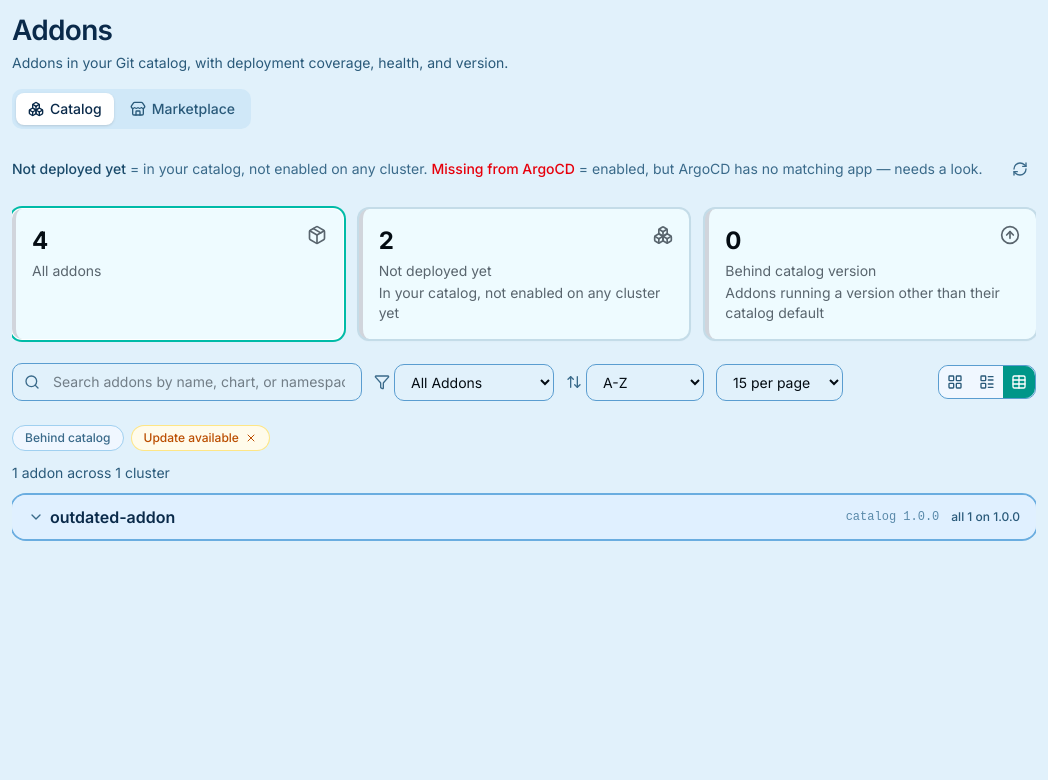
AddonCatalog — ?filter=outdated deep-link (WQ-2) › clearing the chip shows every row again and drops ?filter from the URL
Expected: the text "outdated-addon" is shown, [50,505,175,529]
Expected: the text "up-to-date-addon" is not shown
Step 1. Click the button named "clear the update available filter" → click(251, 438), box [245,432,257,444]
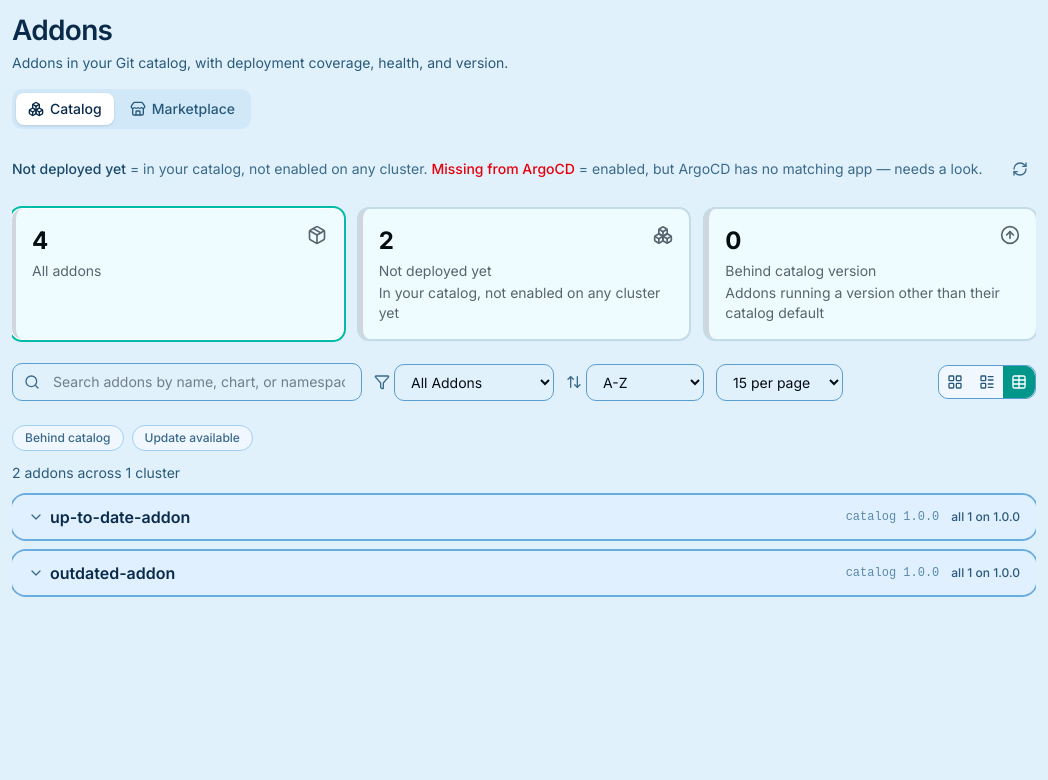
Expected: the button with test id "version-list-outdated-chip" reads "Update available", [132,425,253,451]
Expected: the text "up-to-date-addon" is shown, [50,505,190,529]
